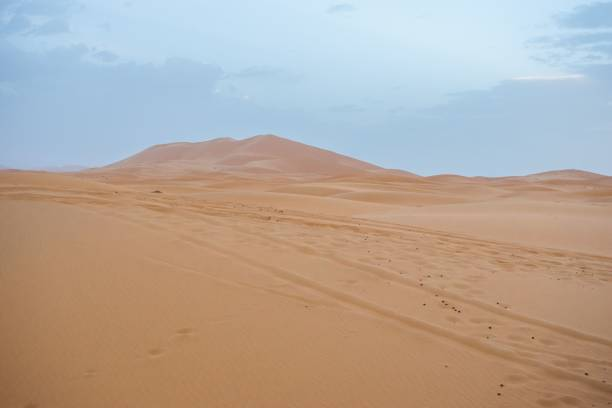vehicle_track: (108, 216, 607, 387), (178, 211, 611, 346)
